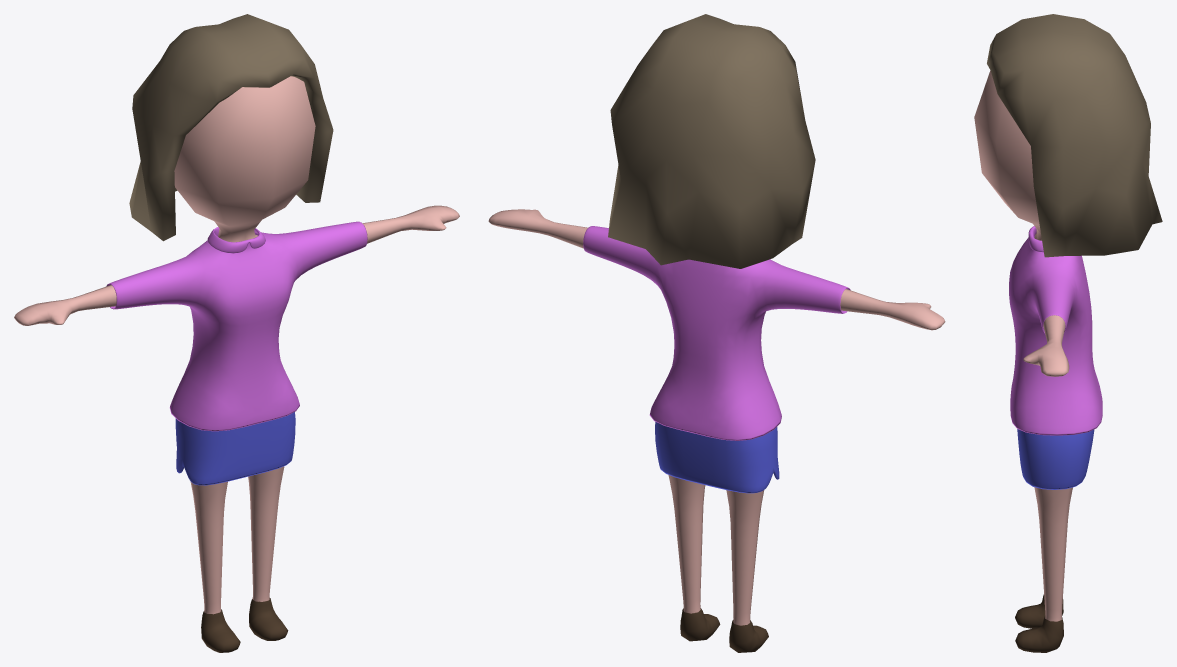
File: body_woman3.fbx
The picture shows the model from 3 angles, left to right: view 1: azimuth 30°, elevation 25°; view 2: azimuth 150°, elevation 25°; view 3: azimuth 270°, elevation 25°; orthographic projection.
Visible parts, largest first — view 1: body_woman3, shirt_woman3, hair_woman3, skirt_woman3, shoe_woman3; view 2: hair_woman3, shirt_woman3, body_woman3, skirt_woman3, shoe_woman3; view 3: hair_woman3, shirt_woman3, body_woman3, skirt_woman3, shoe_woman3.
Boxes of the visible parts, x1,y1,x2,y2 form: body_woman3: (14,76,459,614); shirt_woman3: (106,221,367,431); hair_woman3: (129,14,333,241); skirt_woman3: (175,412,295,485); shoe_woman3: (201,598,288,652); hair_woman3: (608,14,815,268); shirt_woman3: (583,226,850,440); body_woman3: (488,209,945,625); skirt_woman3: (655,422,779,493); shoe_woman3: (680,608,768,652); hair_woman3: (987,14,1162,257); shirt_woman3: (1009,226,1102,435); body_woman3: (974,70,1072,621); skirt_woman3: (1017,429,1094,489); shoe_woman3: (1015,594,1063,652).
Size of the model in its own units: 156 by 207 by 57.75.
